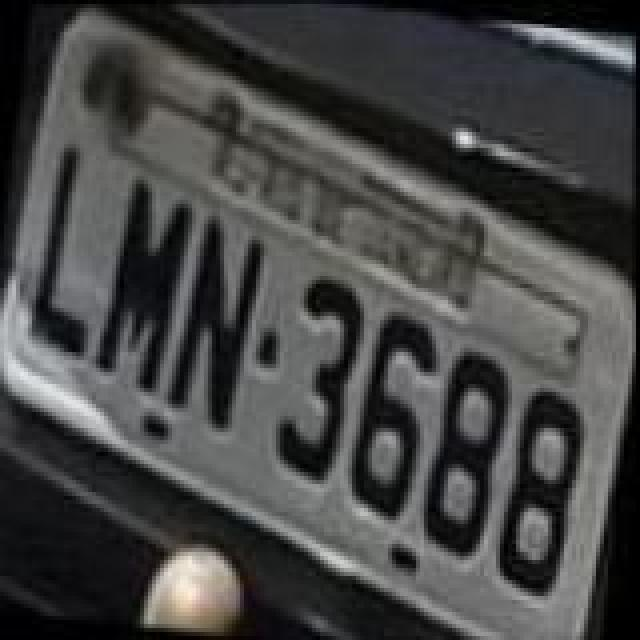3: (264, 270, 376, 486)
6: (342, 304, 454, 528)
8: (412, 340, 524, 564), (486, 386, 598, 606)
L: (18, 140, 118, 364)
M: (84, 170, 204, 398)
N: (158, 210, 274, 438)
